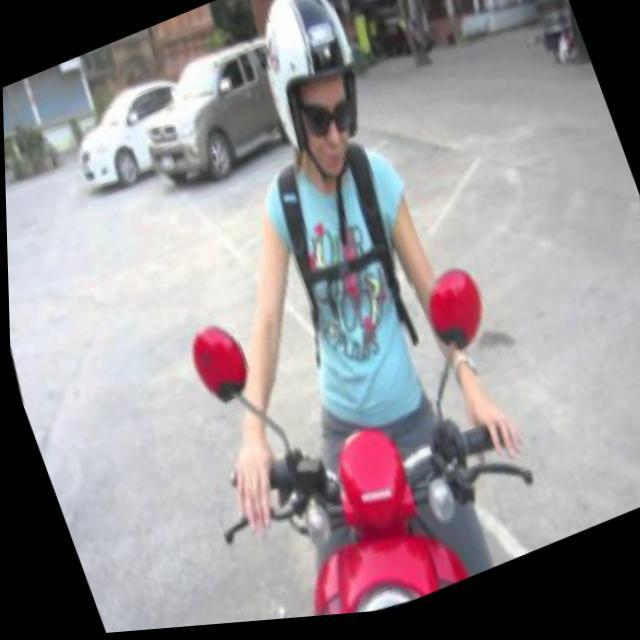Helmet: (256, 0, 371, 194)
